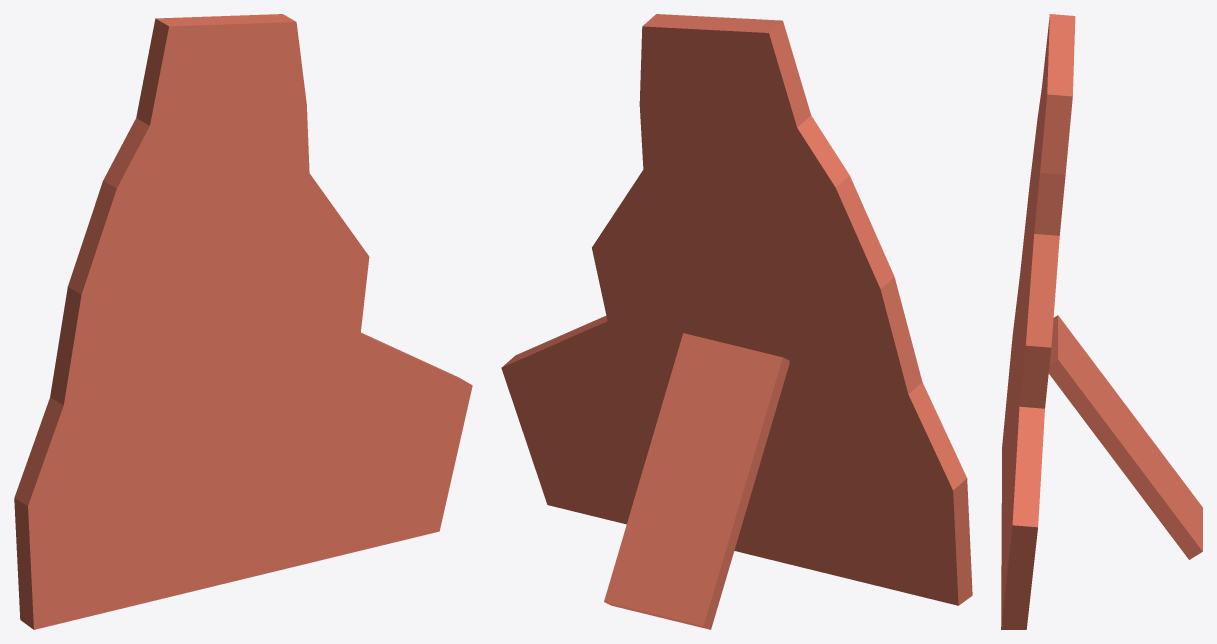
Rendered from baddie1.fbx.
3 renders of one model, left to right at view 1: azimuth 30°, elevation 25°; view 2: azimuth 150°, elevation 25°; view 3: azimuth 270°, elevation 25°, orthographic. The views are drawn at different scales.
Visible parts, largest first — view 1: Cube.001; view 2: Cube.001; view 3: Cube.001.
Boxes of the visible parts, left/top/right/bottom form: Cube.001: left=14, top=14, right=472, bottom=629; Cube.001: left=501, top=14, right=972, bottom=629; Cube.001: left=1001, top=14, right=1202, bottom=629.
Bounding box in the file's own units: 371 × 434 × 157.
